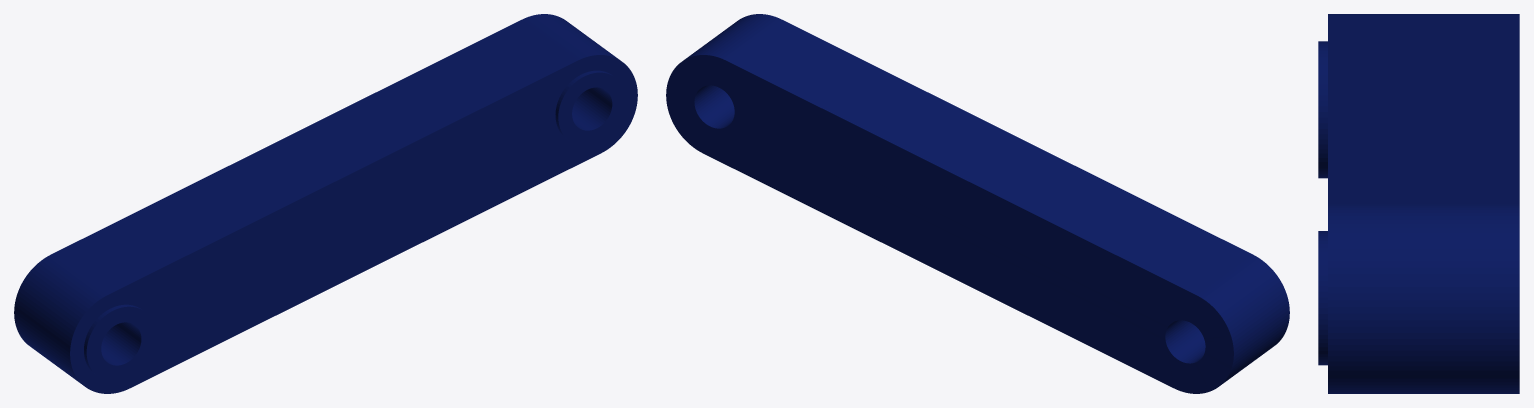
Rendered from bottom_stick_left.obj.
3 renders of one model, left to right at view 1: azimuth 30°, elevation 25°; view 2: azimuth 150°, elevation 25°; view 3: azimuth 270°, elevation 25°, orthographic. The views are drawn at different scales.
Visible parts, largest first — view 1: geometry_1; view 2: geometry_1; view 3: geometry_1.
Boxes of the visible parts, x1,y1,x2,y2 form: geometry_1: (14, 14, 637, 393); geometry_1: (666, 14, 1289, 393); geometry_1: (1318, 14, 1519, 393).
Bounding box in the file's own units: 58.58 × 21.83 × 10.5.
